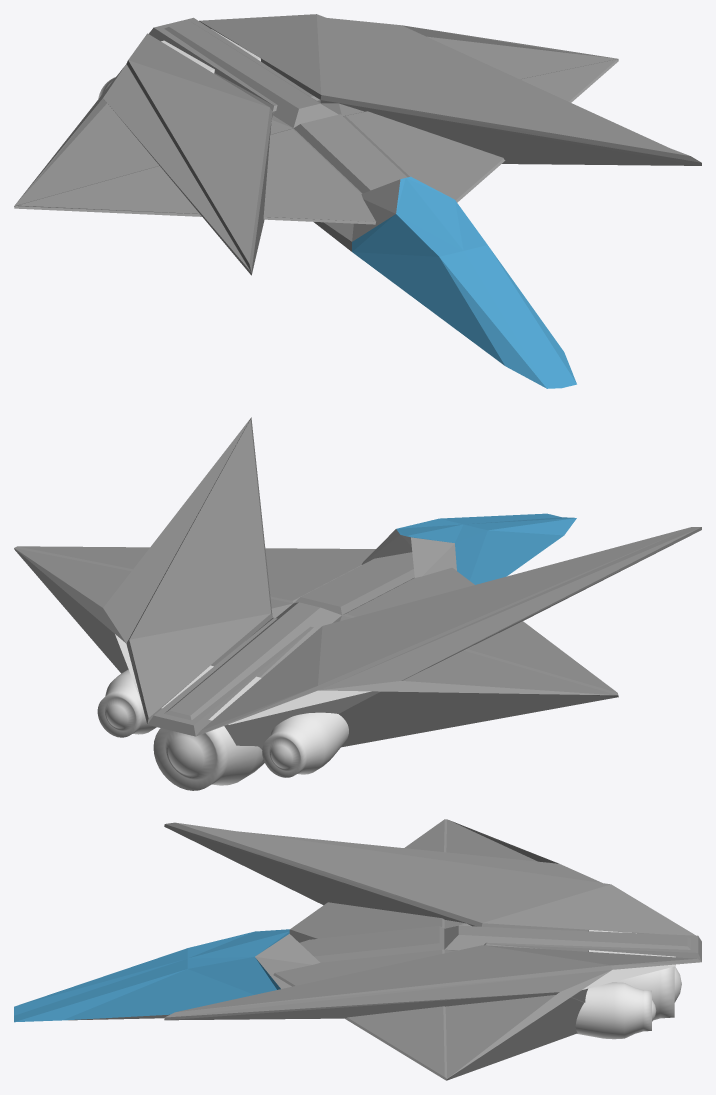
File: Star Wing Ship 3 Engine.FBX
3 renders of one model, top to bottom at view 1: azimuth 30°, elevation 25°; view 2: azimuth 150°, elevation 25°; view 3: azimuth 270°, elevation 25°, orthographic. The views are drawn at different scales.
Visible parts, largest first — view 1: Hedra001; view 2: Hedra001, Sphere003, Sphere002, Hedra002, Sphere001; view 3: Hedra001, Sphere001, Sphere003, Hedra002.
Part boxes in pixels (x1,y1,x2,y2): Hedra001: (14, 14, 701, 388); Hedra001: (14, 417, 701, 761); Sphere003: (153, 726, 264, 790); Sphere002: (262, 712, 348, 777); Hedra002: (115, 634, 380, 749); Sphere001: (97, 669, 156, 737); Hedra001: (14, 819, 701, 1080); Sphere001: (575, 982, 656, 1039); Sphere003: (613, 966, 681, 1020); Hedra002: (571, 930, 675, 1002).
Bounding box in the file's own units: 301 × 58.97 × 337.
